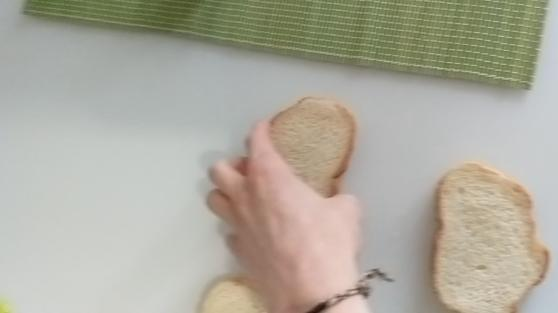white_bread: (434, 162, 553, 313), (268, 91, 356, 198)
